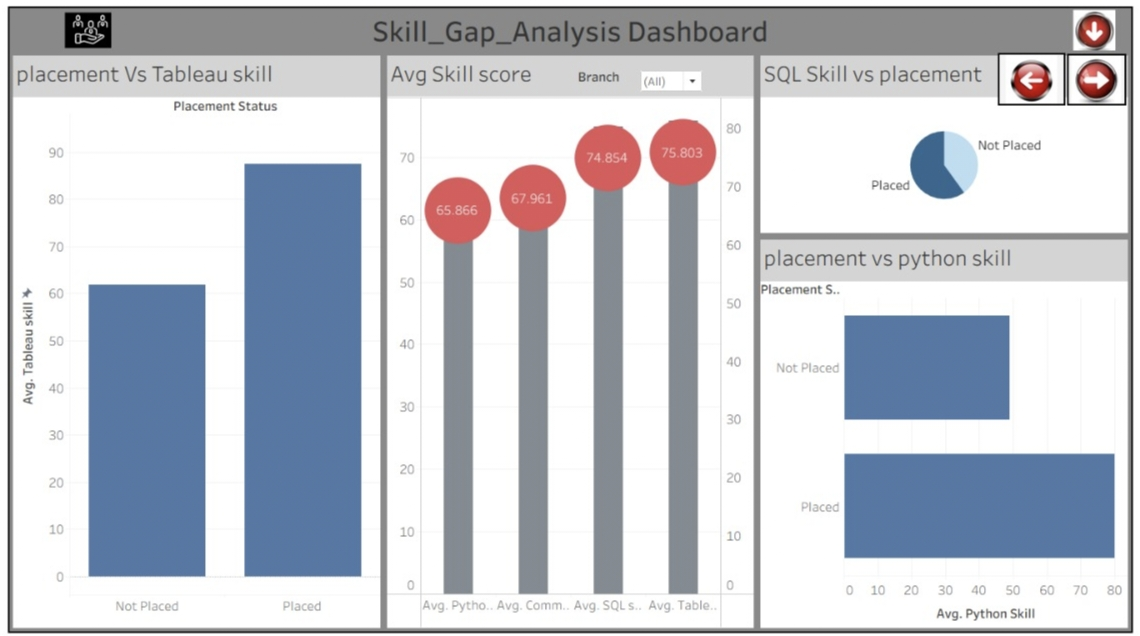

This screenshot's page, from the dashboard's own definition file:
{"tool":"tableau","page":{"name":"Skill_Gap_Analysis Dashboard","canvas":[1366,768],"ordinal":2},"visuals":[{"type":"title","box":[10,10,1346,56]},{"type":"dashboard-object","box":[1273,12,76,49]},{"type":"image","param":"C:/Users/lathi/AppData/Local/Temp/TableauTemp/0j2rm941509ta21fqem9w07d6gjp/Sheet","box":[33,16,65,44]},{"type":"dashboard-object","box":[1196,64,81,63]},{"type":"dashboard-object","box":[1279,65,71,62]},{"type":"worksheet","title":"placement Vs Tableau skill","mark":"Automatic","rows":["Tableau_skill"],"cols":["placement_status"],"box":[10,73,448.7,685]},{"type":"worksheet","title":"Avg Skill score","mark":"Automatic","box":[458.7,73,448.7,685]},{"type":"worksheet","title":"SQL Skill vs placement","mark":"Pie","box":[907.3,73,448.7,217.3]},{"type":"filter","title":"Avg Skill score","param":"[federated.0i0cj07034cf3o1h8nas819k2yet].[none:branch:nk]","box":[688,78,160,45]},{"type":"worksheet","title":"placement vs python skill","mark":"Automatic","rows":["placement_status"],"cols":["Python_Skill"],"box":[907.3,290.3,448.7,467.7]}]}

Visuals, with their boxes in screenshot pixels (x1, y1, x2, y2), scaled from the page's 1366x768 canvas onto the 1140x636 screenshot:
title: [8, 8, 1132, 55]
dashboard-object: [1062, 10, 1126, 51]
image: [28, 13, 82, 50]
dashboard-object: [998, 53, 1066, 105]
dashboard-object: [1067, 54, 1127, 105]
"placement Vs Tableau skill" worksheet: [8, 60, 383, 628]
"Avg Skill score" worksheet: [383, 60, 757, 628]
"SQL Skill vs placement" worksheet (Pie marks): [757, 60, 1132, 240]
"Avg Skill score" filter: [574, 65, 708, 102]
"placement vs python skill" worksheet: [757, 240, 1132, 628]
